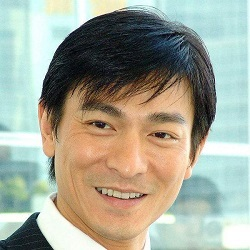unmask: (51, 67, 197, 237)
